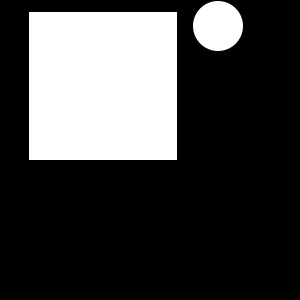circle: (29, 12, 177, 160)
rectangle: (193, 1, 243, 51)
triangle: (40, 21, 63, 44)
